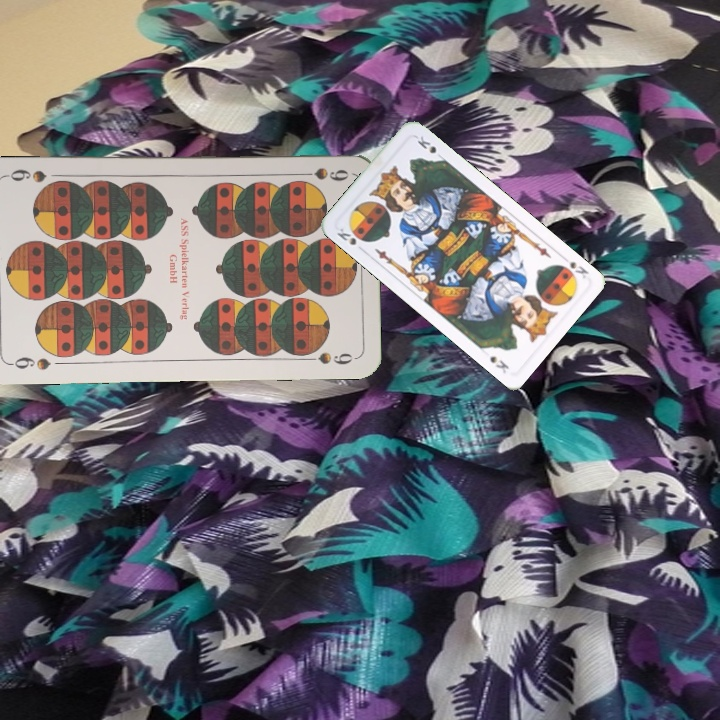S9: (293, 164, 351, 184), (6, 353, 53, 373)
SK: (333, 224, 359, 248), (565, 257, 591, 281)
